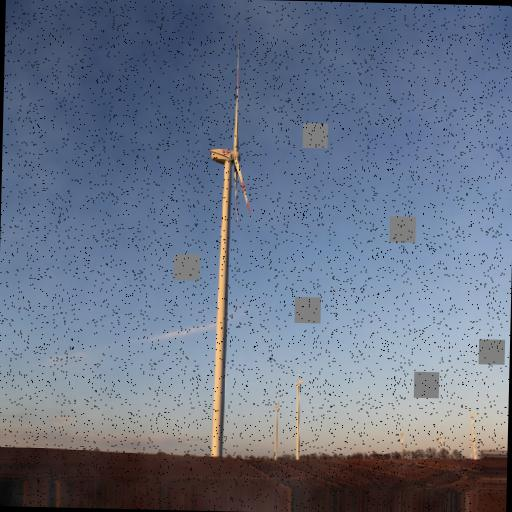wind turbine: (204, 46, 253, 459)
